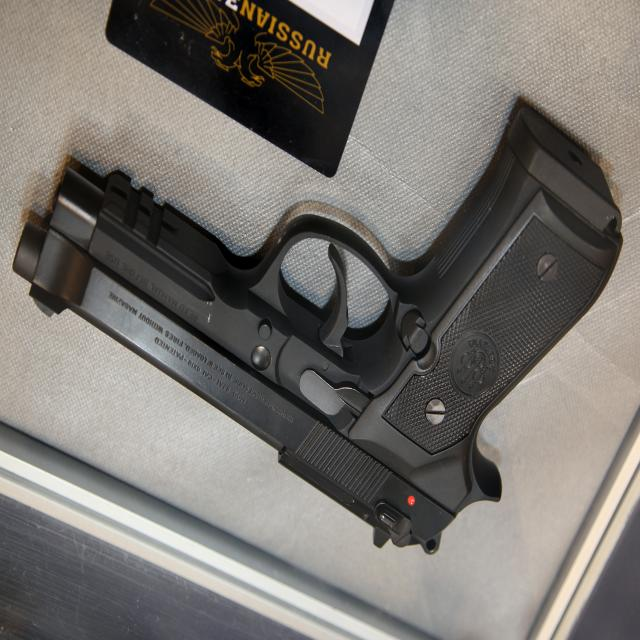Gun: (51, 0, 587, 590)
